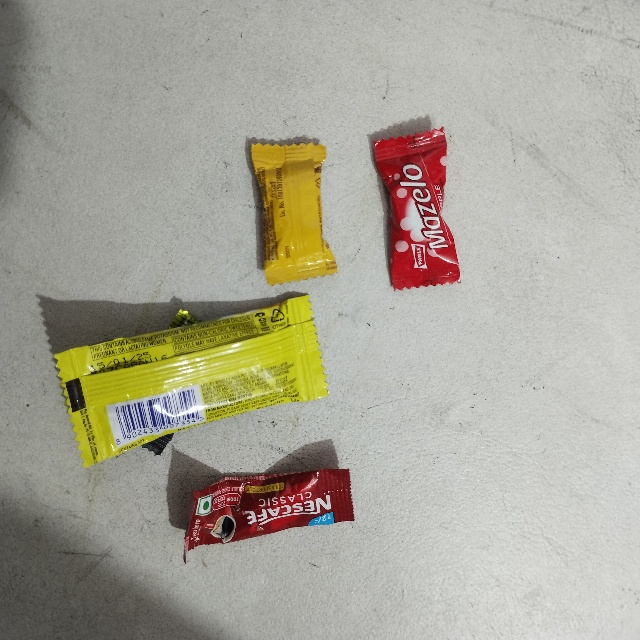Alpenlibe Creamfills: (241, 142, 320, 292)
Mazelo: (358, 144, 456, 297)
Nescafe Coffee: (171, 486, 353, 560)
Orbit: (50, 355, 319, 465)
